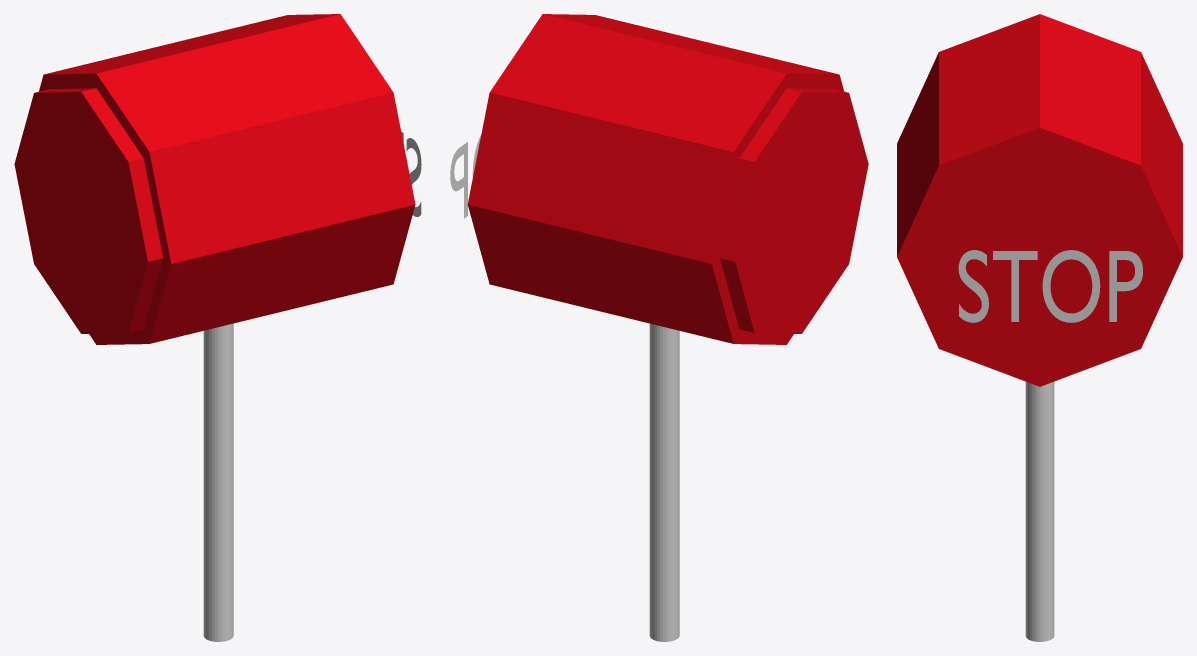
The model's file is stop_sign2.fbx.
3 views of the same model, side by side, from view 1: azimuth 30°, elevation 25°; view 2: azimuth 150°, elevation 25°; view 3: azimuth 270°, elevation 25° (orthographic). The views are drawn at different scales.
Visible parts, largest first — view 1: Cylinder.001, Cylinder; view 2: Cylinder.001, Cylinder, Text; view 3: Cylinder.001, Cylinder, Text.
Boxes of the visible parts, left/top/right/bottom form: Cylinder.001: left=14, top=14, right=415, bottom=344; Cylinder: left=203, top=323, right=233, bottom=641; Cylinder.001: left=467, top=14, right=868, bottom=344; Cylinder: left=649, top=323, right=679, bottom=641; Text: left=450, top=135, right=481, bottom=218; Cylinder.001: left=897, top=14, right=1182, bottom=386; Cylinder: left=1025, top=382, right=1054, bottom=641; Text: left=958, top=250, right=1142, bottom=322.
Size of the model in its own units: 230 by 436 by 200.
